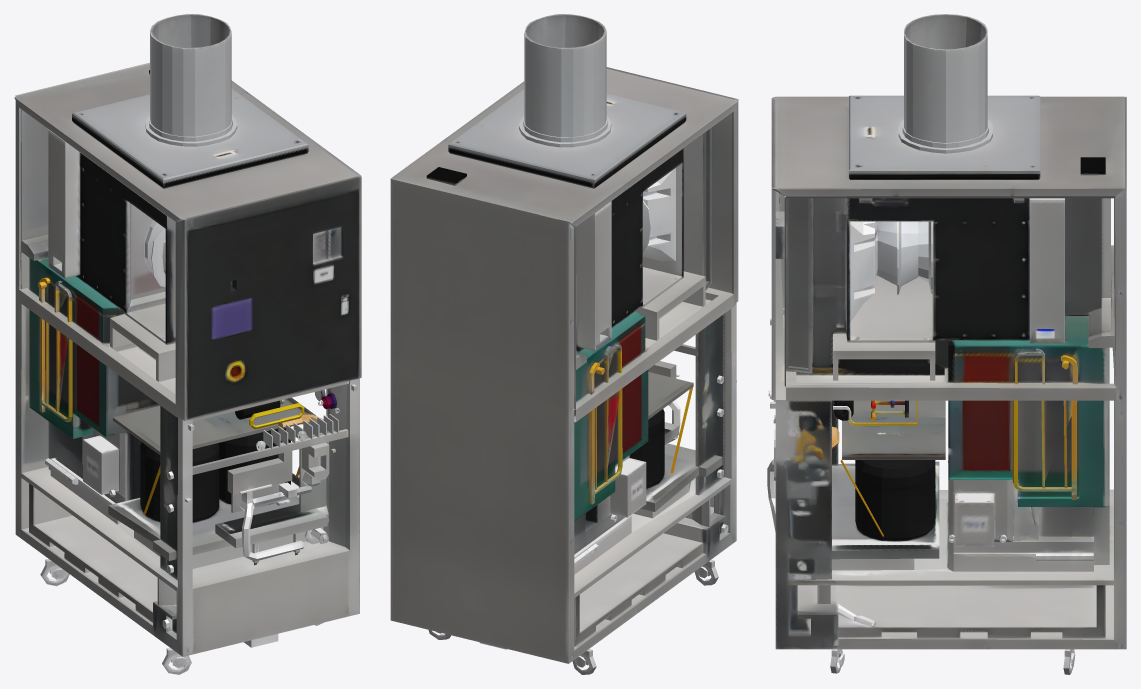
File: edge-air-conditioner.glb
3 renders of one model, left to right at view 1: azimuth 30°, elevation 25°; view 2: azimuth 150°, elevation 25°; view 3: azimuth 270°, elevation 25°, orthographic. The views are drawn at different scales.
Visible parts, largest first — view 1: model; view 2: model; view 3: model.
Boxes of the visible parts, x1,y1,x2,y2 form: model: [14, 14, 361, 674]; model: [390, 14, 738, 674]; model: [767, 14, 1126, 674].
Size of the model in its own units: 0.6394 by 1.9 by 1.02.
Materials: 1 (1 with a texture image).
